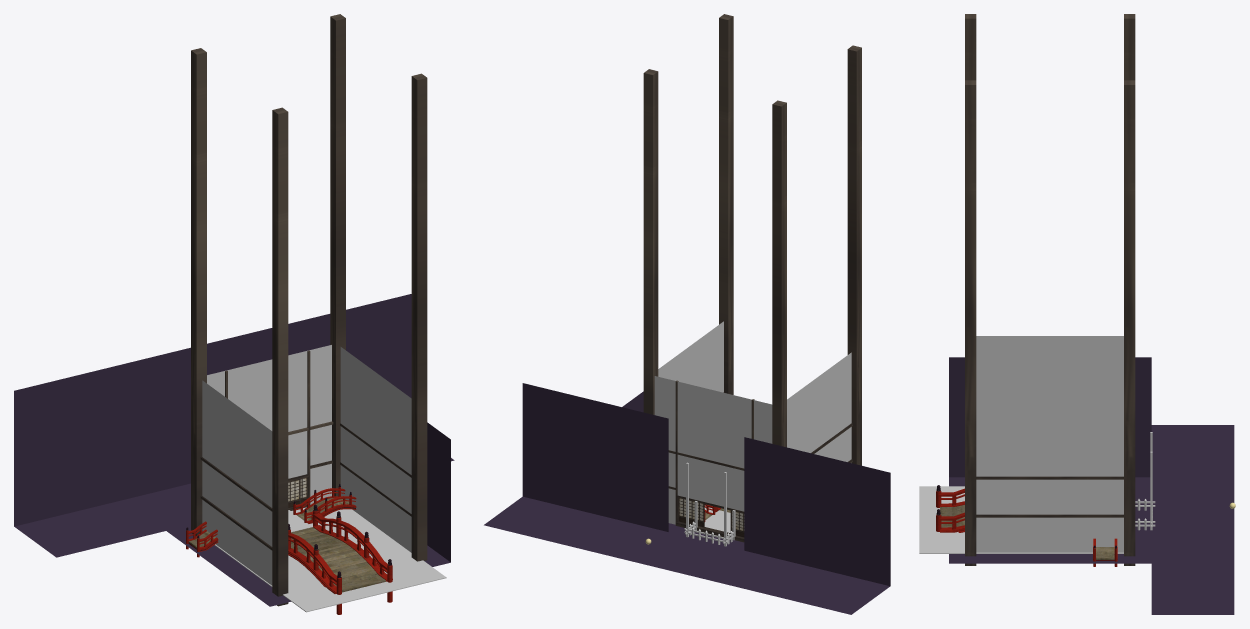
File: stage1.fbx
3 renders of one model, left to right at view 1: azimuth 30°, elevation 25°; view 2: azimuth 150°, elevation 25°; view 3: azimuth 270°, elevation 25°, orthographic. The views are drawn at different scales.
Parts seen in each view (by area): view 1: sky1, hasira1, kabe3, kabe2, hasira3, hasira2, kabe1, hashi1, yuka2, kabe_ki, hashi7, hashi6; view 2: sky1, hasira1, kabe1, hasira3, hasira2, kabe2, kabe3, odoriba1, kabe_ki; view 3: sky1, kabe3, kabe2, hasira1, hasira2, yuka2, kabe_ki, hashi1, hasira3, odoriba1, hashi7.
Part boxes in pixels (x1=…): sky1: x1=14, y1=294, x2=454, y2=606; hasira1: x1=191, y1=14, x2=345, y2=535; kabe3: x1=340, y1=347, x2=411, y2=552; kabe2: x1=202, y1=380, x2=272, y2=585; hasira3: x1=272, y1=107, x2=288, y2=606; hasira2: x1=411, y1=73, x2=427, y2=561; kabe1: x1=207, y1=345, x2=331, y2=504; hashi1: x1=288, y1=504, x2=392, y2=614; yuka2: x1=214, y1=507, x2=446, y2=612; kabe_ki: x1=200, y1=350, x2=411, y2=550; hashi7: x1=293, y1=484, x2=356, y2=523; hashi6: x1=186, y1=521, x2=218, y2=557; sky1: x1=484, y1=383, x2=890, y2=614; hasira1: x1=643, y1=69, x2=786, y2=447; kabe1: x1=654, y1=376, x2=772, y2=524; hasira3: x1=847, y1=45, x2=861, y2=465; hasira2: x1=719, y1=14, x2=733, y2=394; kabe2: x1=787, y1=352, x2=851, y2=461; kabe3: x1=658, y1=321, x2=723, y2=392; odoriba1: x1=684, y1=462, x2=735, y2=546; kabe_ki: x1=668, y1=380, x2=852, y2=521; sky1: x1=949, y1=357, x2=1234, y2=614; kabe3: x1=976, y1=401, x2=1123, y2=552; kabe2: x1=976, y1=336, x2=1123, y2=401; hasira1: x1=1124, y1=14, x2=1135, y2=565; hasira2: x1=965, y1=80, x2=976, y2=565; yuka2: x1=919, y1=486, x2=1123, y2=553; kabe_ki: x1=976, y1=476, x2=1123, y2=517; hashi1: x1=936, y1=485, x2=964, y2=532; hasira3: x1=965, y1=14, x2=976, y2=80; odoriba1: x1=1135, y1=432, x2=1155, y2=530; hashi7: x1=1093, y1=538, x2=1117, y2=566.
Size of the model in its own units: 5282 by 6353 by 3722.
